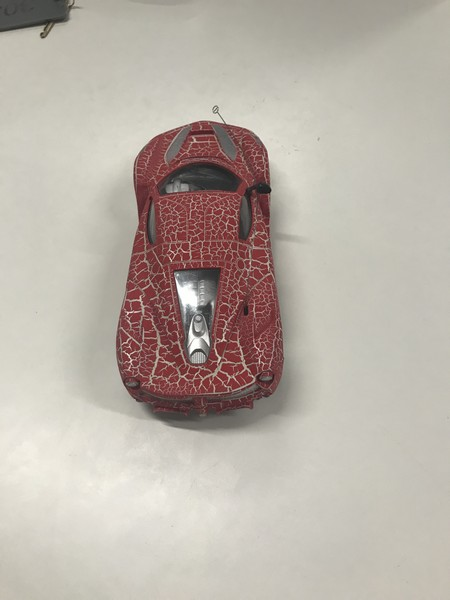RC: (112, 117, 289, 422)
